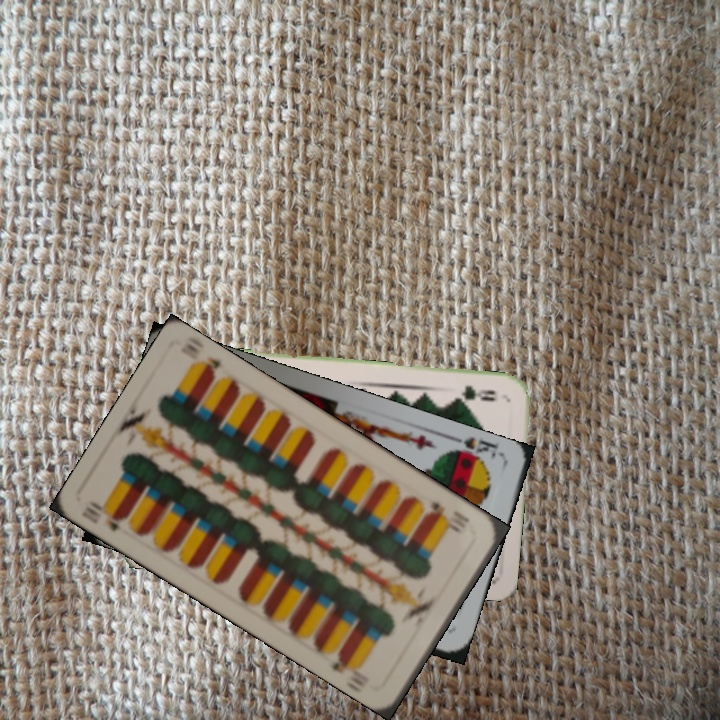E10: (78, 497, 129, 534), (423, 497, 473, 531)
G9: (450, 381, 499, 404)
SK: (443, 432, 500, 467)
